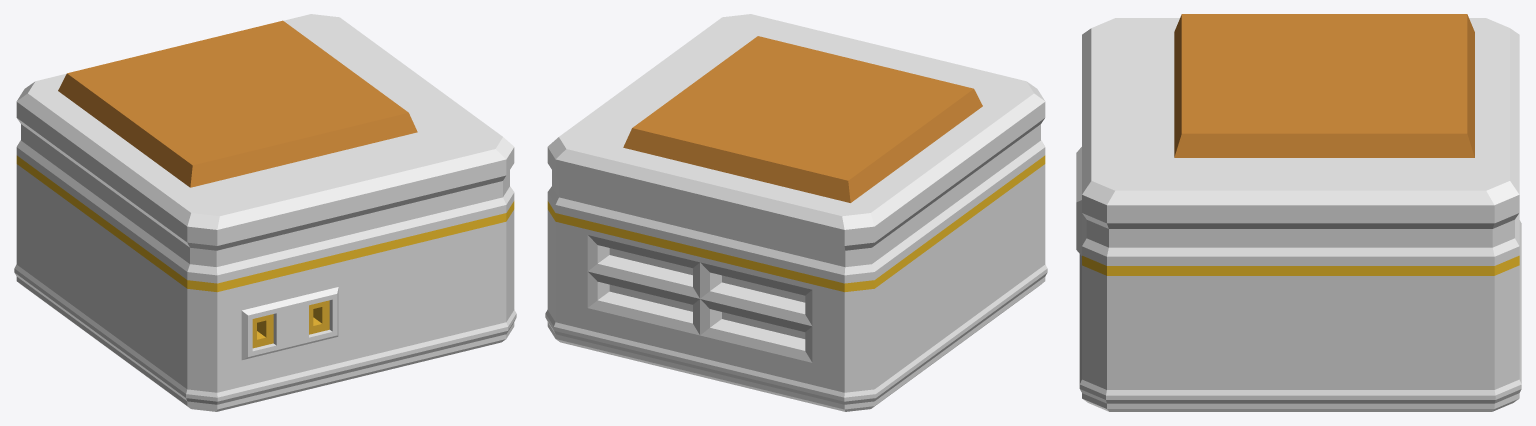
The model's file is PowerRegulator.fbx.
3 views of the same model, side by side, from view 1: azimuth 30°, elevation 25°; view 2: azimuth 150°, elevation 25°; view 3: azimuth 270°, elevation 25° (orthographic). The views are drawn at different scales.
Visible parts, largest first — view 1: PowerRegulator; view 2: PowerRegulator; view 3: PowerRegulator.
Boxes of the visible parts, x1,y1,x2,y2 form: PowerRegulator: (14,14,516,411); PowerRegulator: (545,14,1047,411); PowerRegulator: (1076,14,1521,411).
Bounding box in the file's own units: 56.28 × 34.51 × 57.89.
